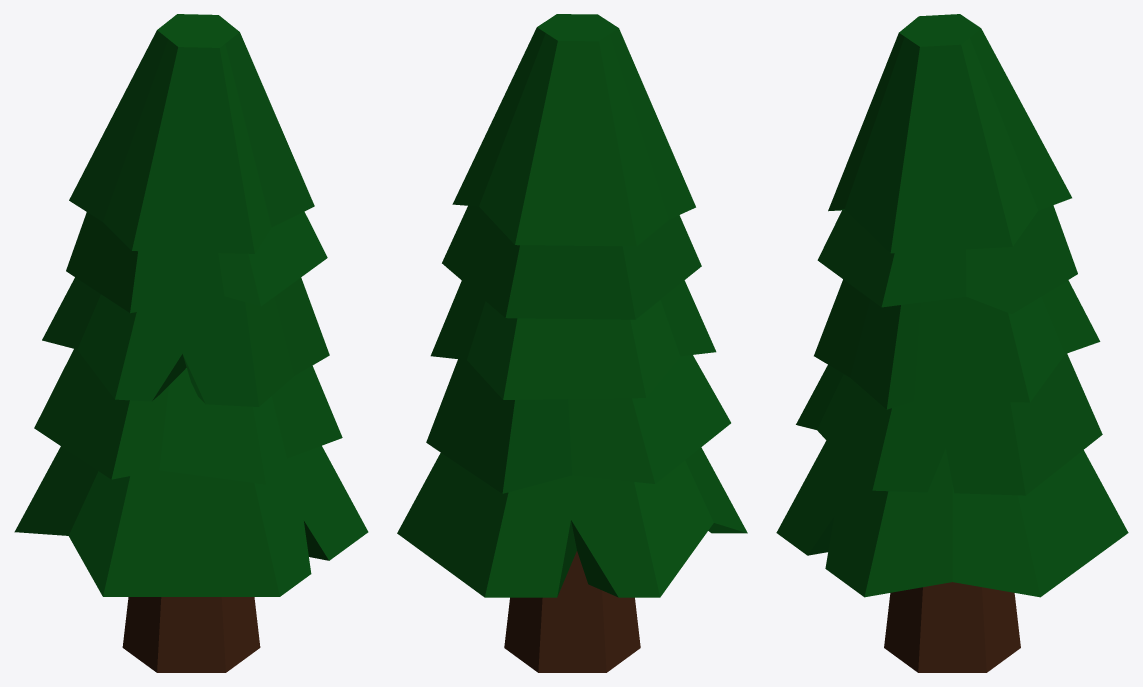
The model's file is Pine.fbx.
3 renders of one model, left to right at view 1: azimuth 30°, elevation 25°; view 2: azimuth 150°, elevation 25°; view 3: azimuth 270°, elevation 25°, orthographic.
Visible parts, largest first — view 1: Cylinder.005, Cylinder.001, Cylinder.003, Cylinder.002, Cylinder.004, Cylinder; view 2: Cylinder.005, Cylinder.001, Cylinder.002, Cylinder.003, Cylinder.004, Cylinder; view 3: Cylinder.005, Cylinder.001, Cylinder.002, Cylinder.003, Cylinder.004, Cylinder.
Boxes of the visible parts, left/top/right/bottom form: Cylinder.005: left=69, top=14, right=314, bottom=253; Cylinder.001: left=14, top=446, right=368, bottom=596; Cylinder.003: left=42, top=277, right=329, bottom=406; Cylinder.002: left=34, top=349, right=342, bottom=484; Cylinder.004: left=66, top=211, right=327, bottom=313; Cylinder: left=122, top=597, right=260, bottom=672; Cylinder.005: left=452, top=14, right=695, bottom=246; Cylinder.001: left=397, top=447, right=747, bottom=597; Cylinder.002: left=426, top=355, right=730, bottom=493; Cylinder.003: left=430, top=280, right=716, bottom=399; Cylinder.004: left=442, top=205, right=701, bottom=319; Cylinder: left=504, top=551, right=640, bottom=672; Cylinder.005: left=828, top=14, right=1071, bottom=253; Cylinder.001: left=776, top=441, right=1128, bottom=597; Cylinder.002: left=796, top=353, right=1102, bottom=495; Cylinder.003: left=814, top=279, right=1100, bottom=409; Cylinder.004: left=817, top=205, right=1077, bottom=313; Cylinder: left=884, top=582, right=1020, bottom=672.
Size of the model in its own units: 6314 by 14156 by 7291.
